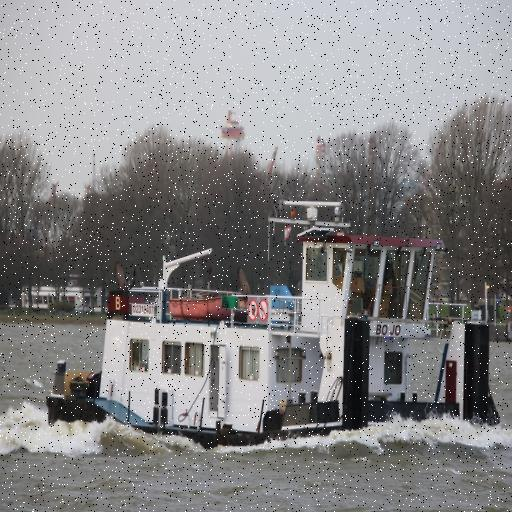tugboat: (45, 193, 509, 466)
